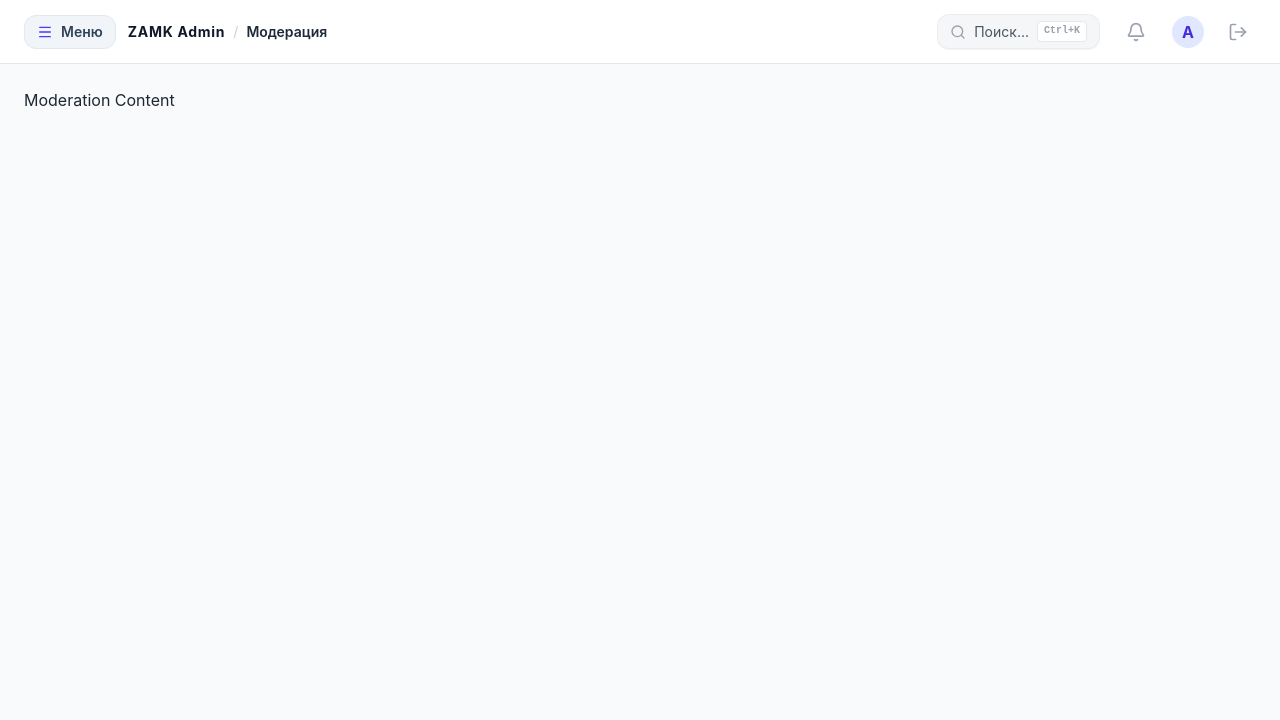
Admin Moderation Information Architecture › renders sidebar with Модерация and actionable seller count (including pending_review)
Note: Open on-demand navigation catalog
Click the button with test id "admin-nav-trigger" at [70, 32], box [24,14,116,48]
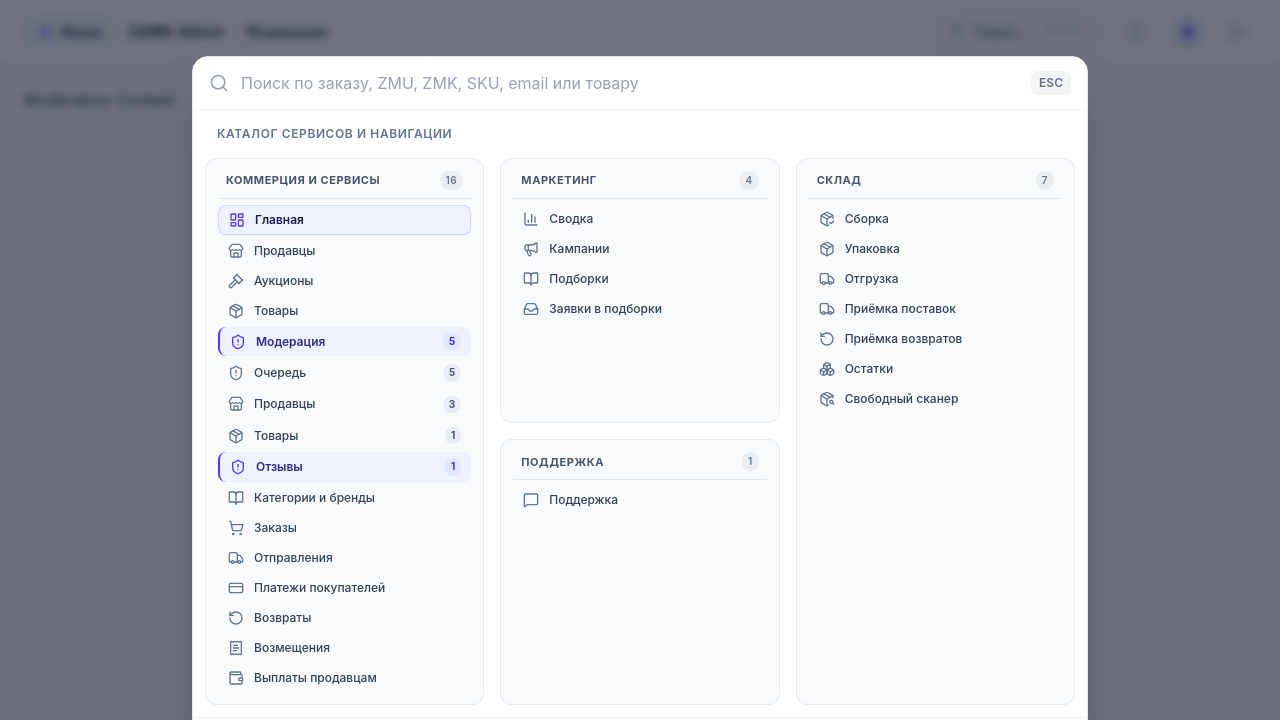
Expected: the text "Модерация" next to "ZAMK Admin" is shown, [246,22,327,40]
Expected: the text "Очередь" is shown, [254,365,306,381]
Expected: the text "Отзывы" is shown, [256,459,303,475]
